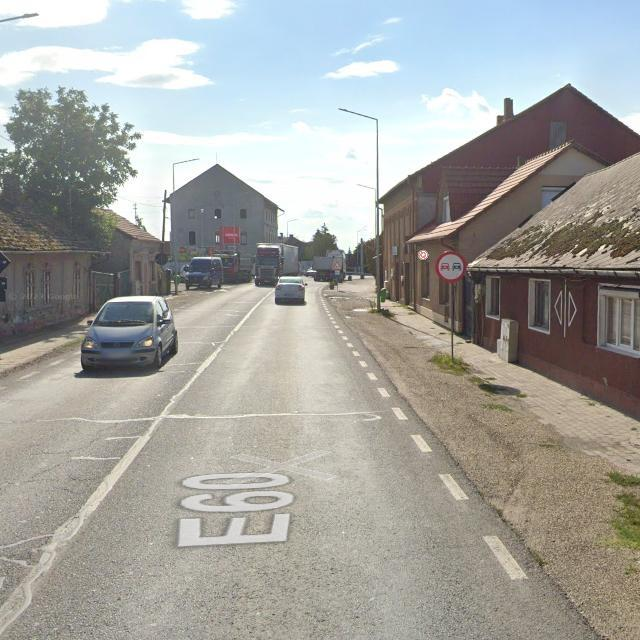forb_overtake: (436, 250, 467, 282)
